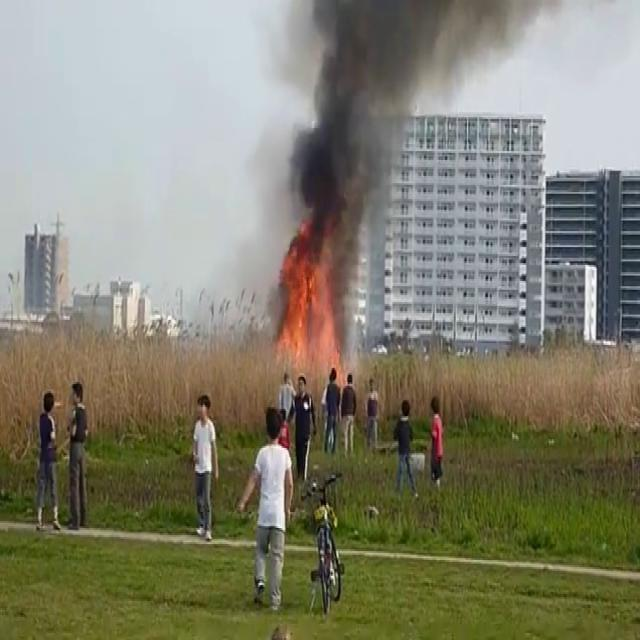Fire: (270, 237, 346, 383)
Smoke: (247, 0, 439, 252)
